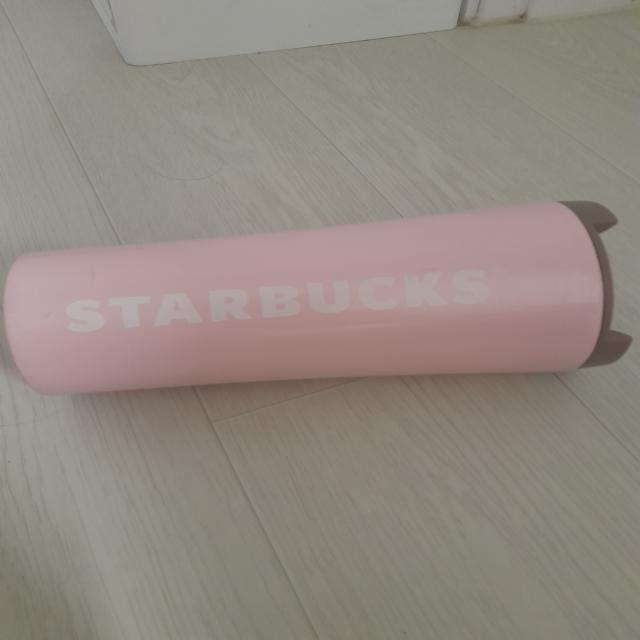waterbottle: (8, 198, 636, 392)
